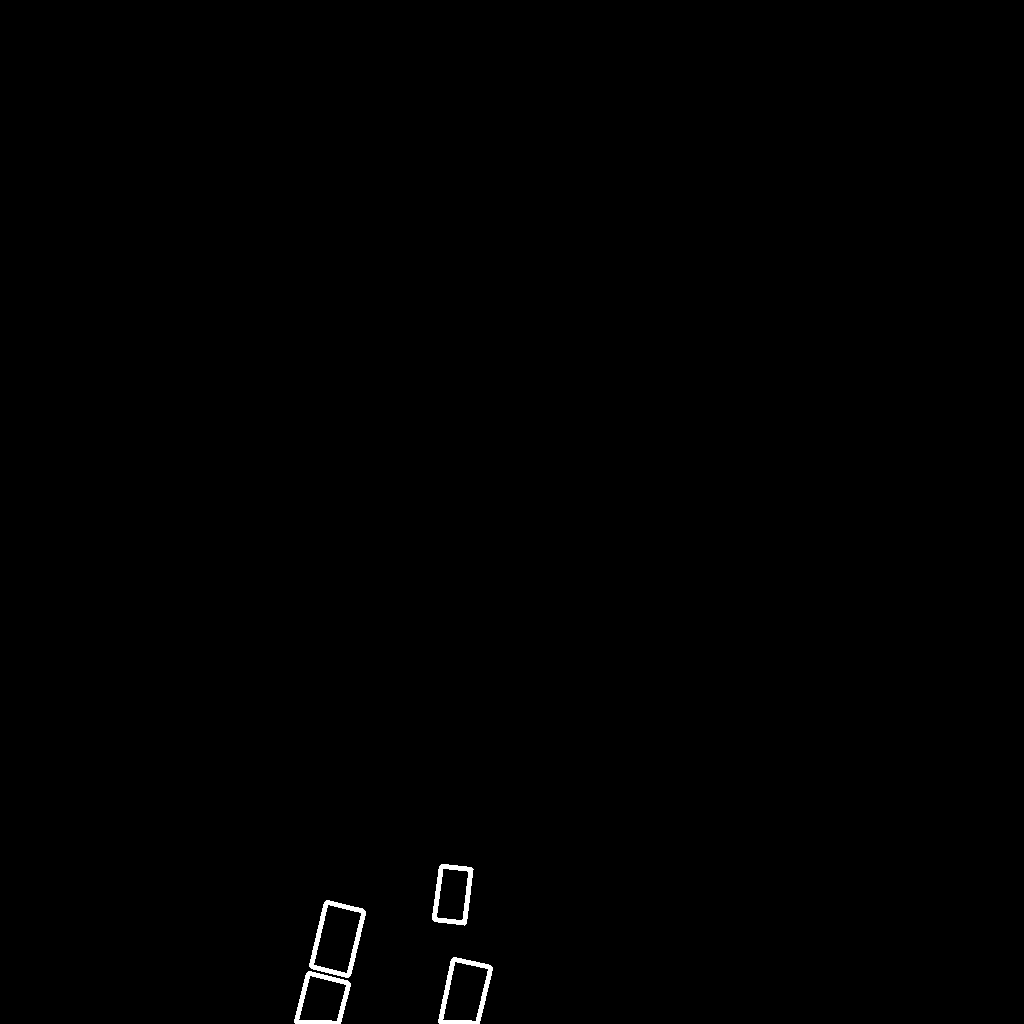building: (311, 902, 365, 977), (440, 959, 492, 1024), (296, 973, 350, 1024), (434, 866, 472, 924)
